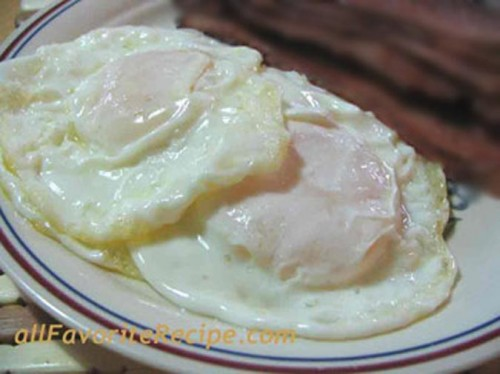fried egg: (209, 60, 452, 343), (17, 39, 252, 239)
